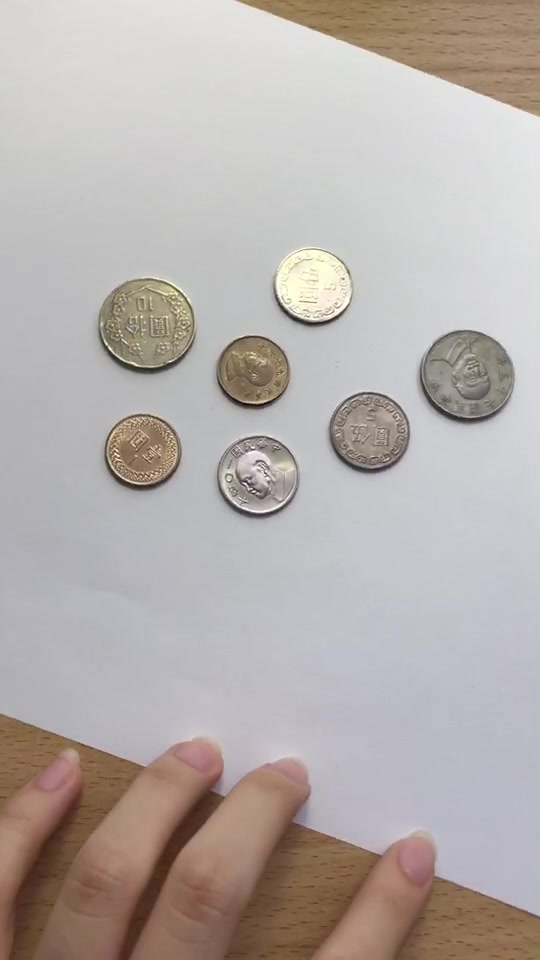1 dallar: (97, 408, 188, 495), (203, 329, 294, 416)
10 dallar: (92, 271, 204, 376), (413, 319, 525, 424)
5 dallar: (211, 429, 302, 519), (319, 386, 410, 476), (270, 244, 361, 334)
